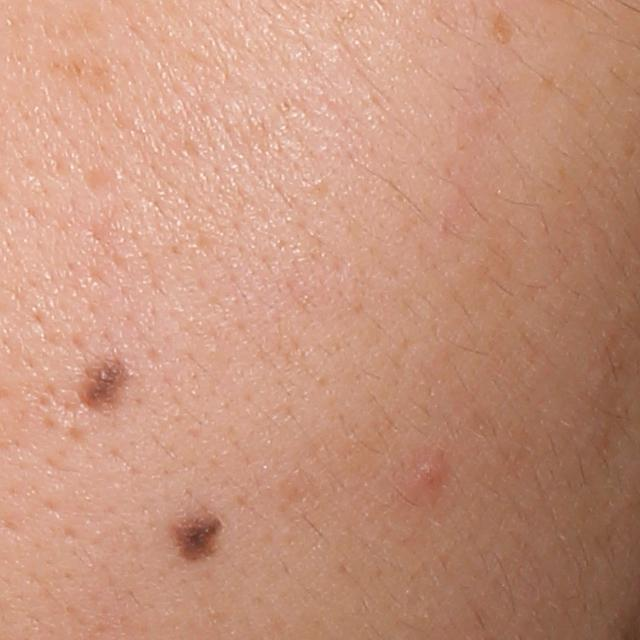atrophic_scar: (80, 162, 114, 199)
melasma: (49, 51, 116, 99), (490, 13, 522, 50)
nevus: (168, 490, 226, 563), (77, 349, 132, 420)
papule: (399, 450, 453, 496)
